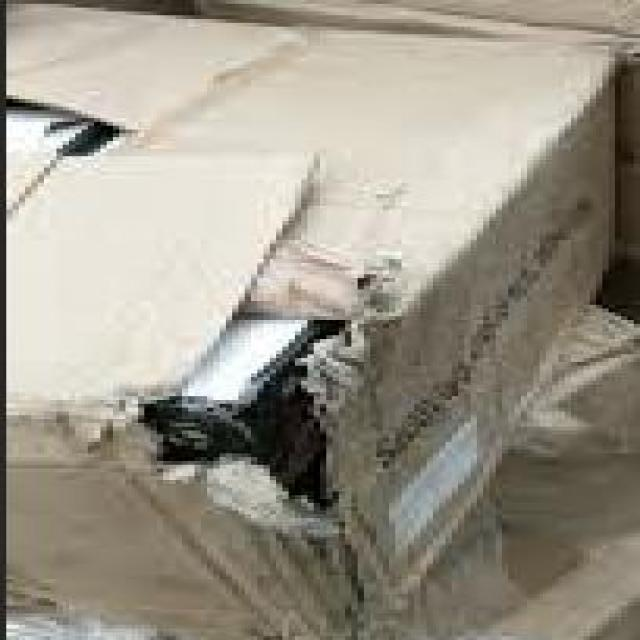damaged: (119, 295, 370, 539)
